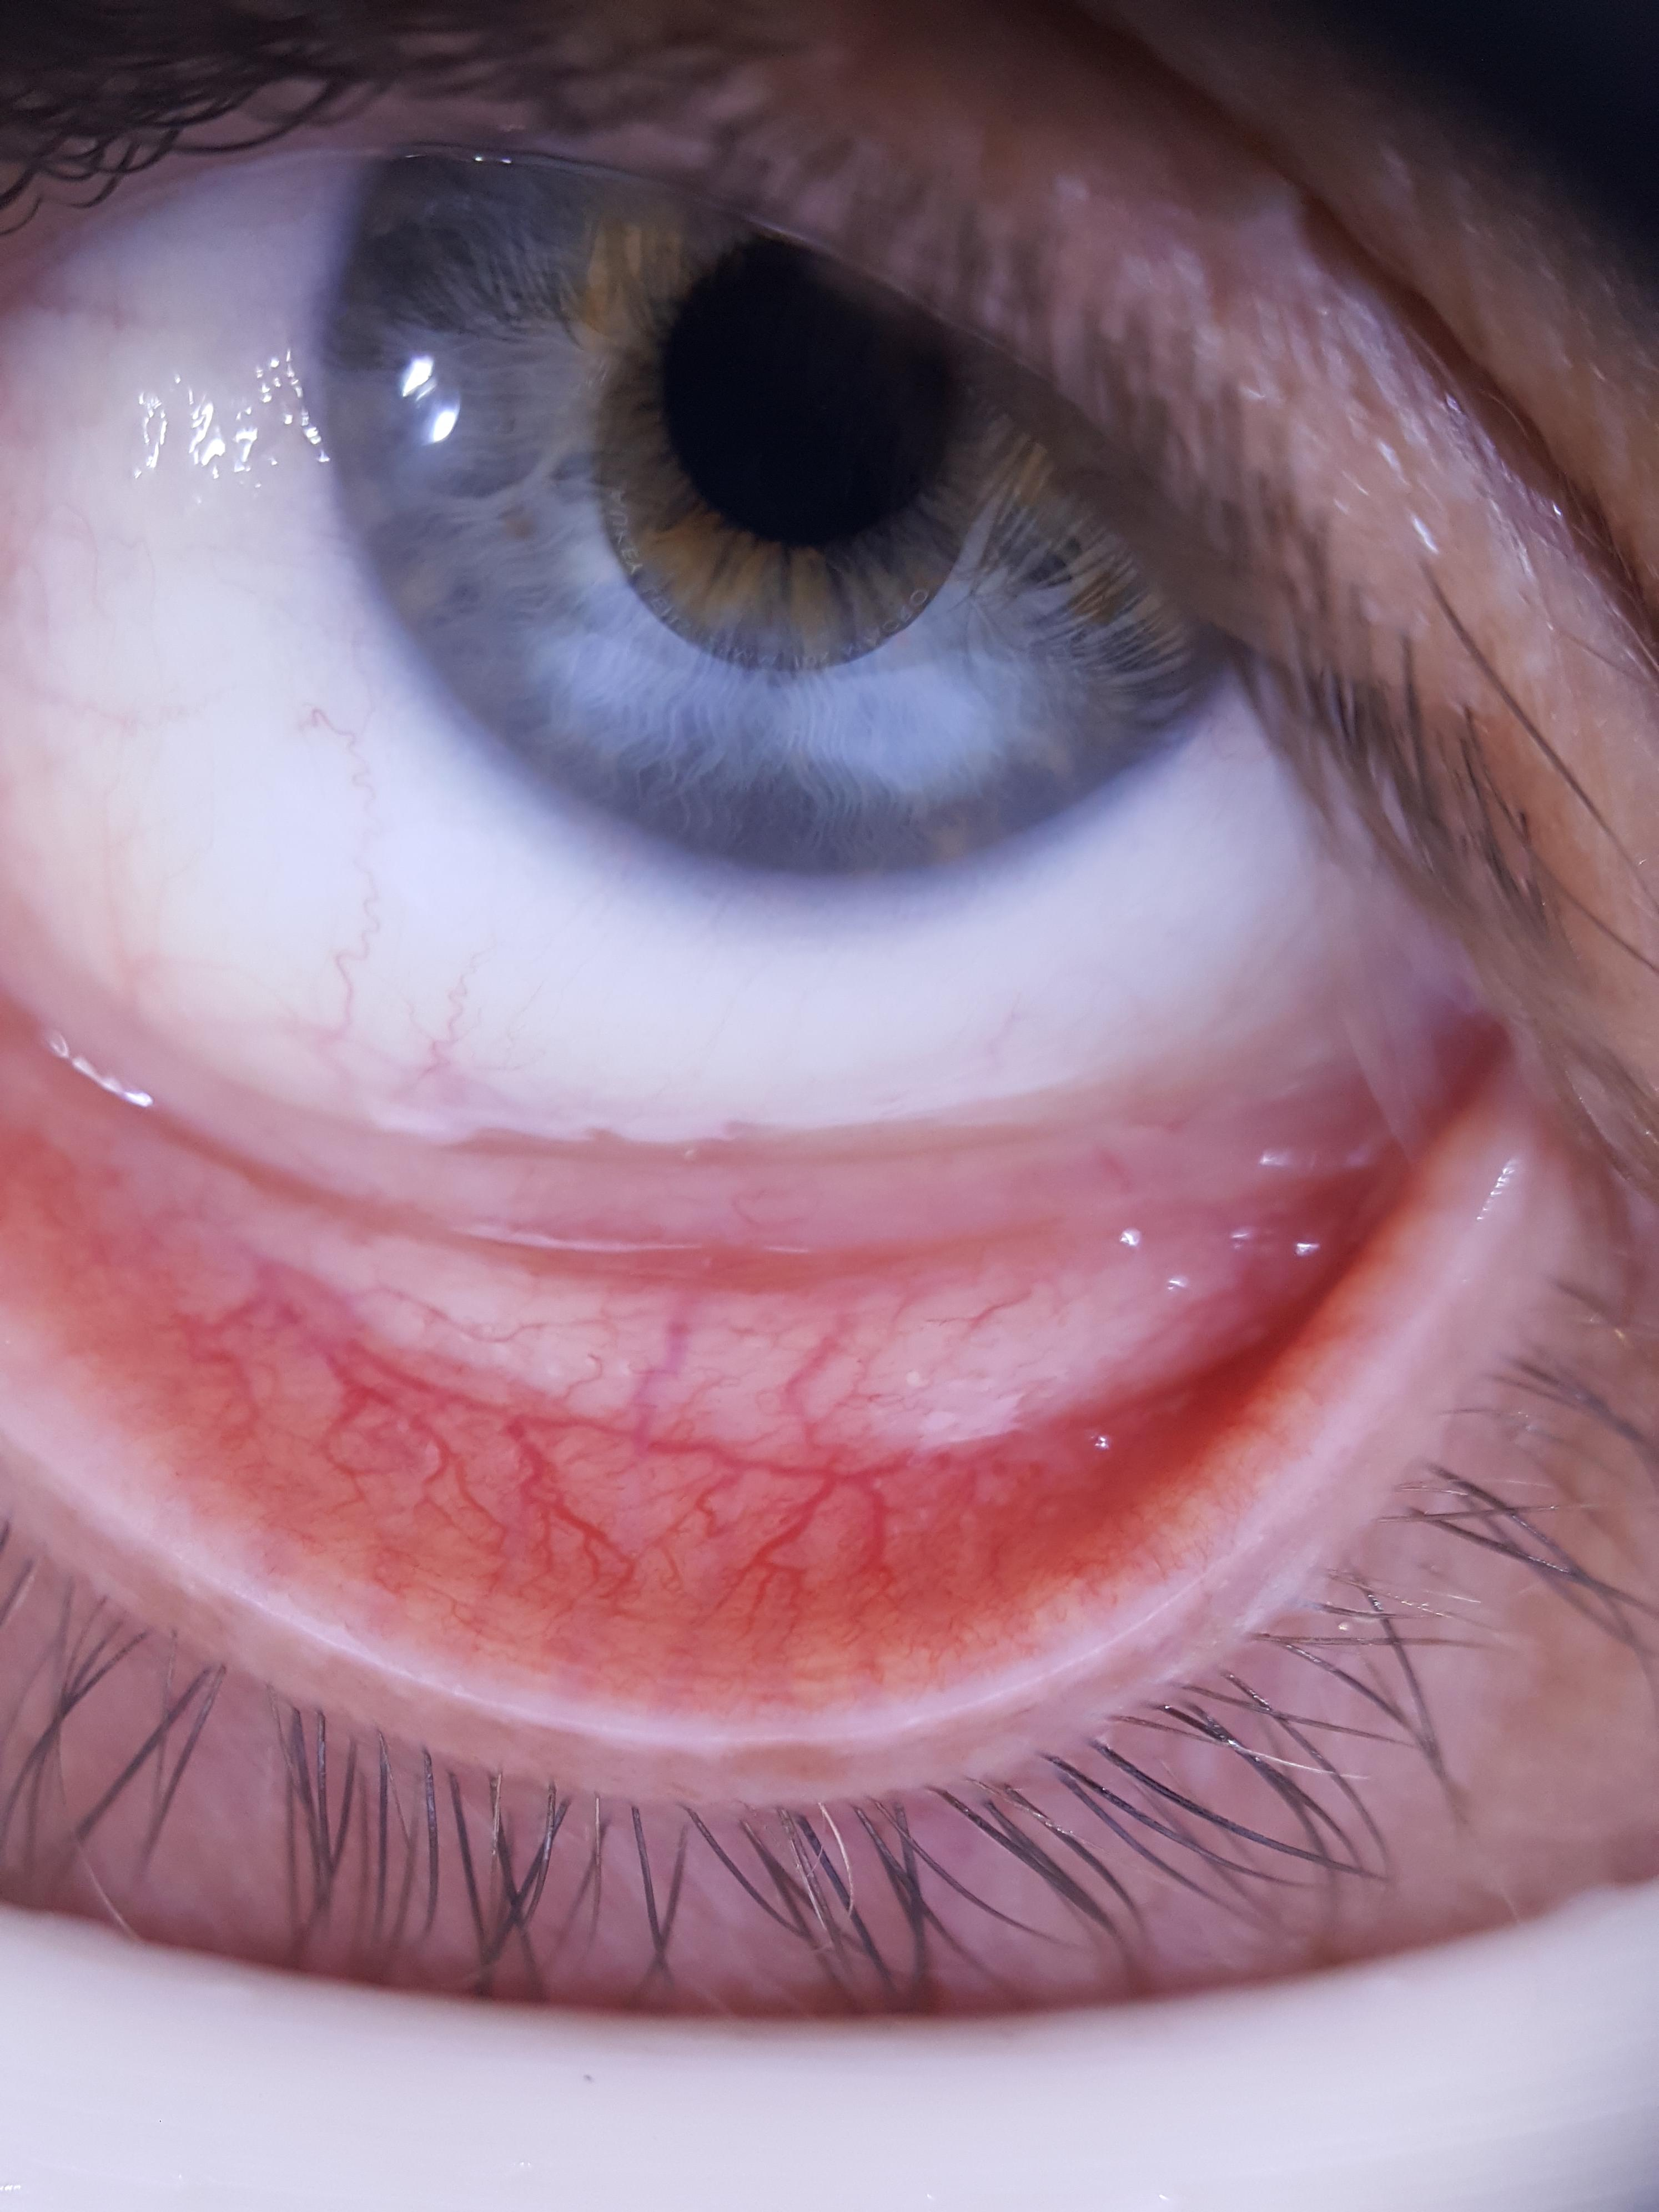forniceal: (2, 993, 1384, 1454)
forniceal_palpebral: (0, 981, 1384, 1683)
palpebral: (3, 1115, 1370, 1677)
